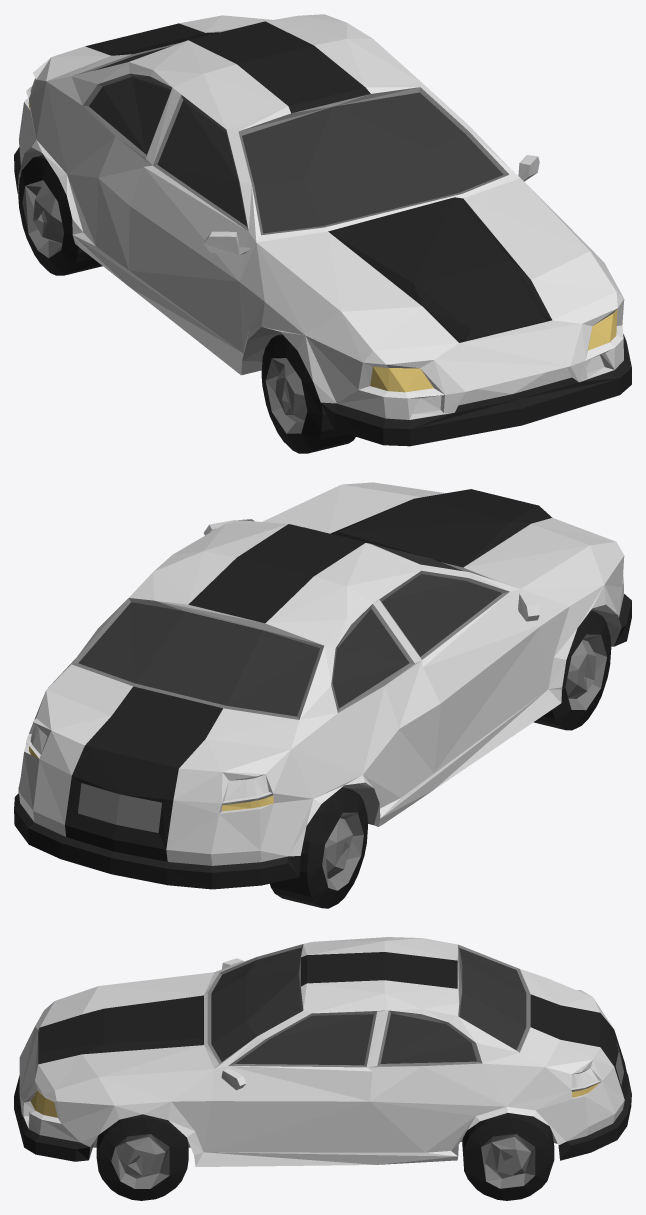
File: sports-car-b-neutral.glb
3 renders of one model, top to bottom at view 1: azimuth 30°, elevation 25°; view 2: azimuth 150°, elevation 25°; view 3: azimuth 270°, elevation 25°, orthographic. The views are drawn at different scales.
Parts seen in each view (by area): view 1: BackWheels, Sports; view 2: BackWheels, Sports; view 3: BackWheels, Sports.
Part boxes in pixels (x1,y1,x2,y2): BackWheels: (14,14,631,453); Sports: (28,78,617,392); BackWheels: (14,482,631,908); Sports: (29,724,273,811); BackWheels: (14,937,631,1200); Sports: (30,1068,598,1117).
Size of the model in its own units: 2.67 by 1.84 by 5.66.
Materials: 2 (2 with a texture image).
